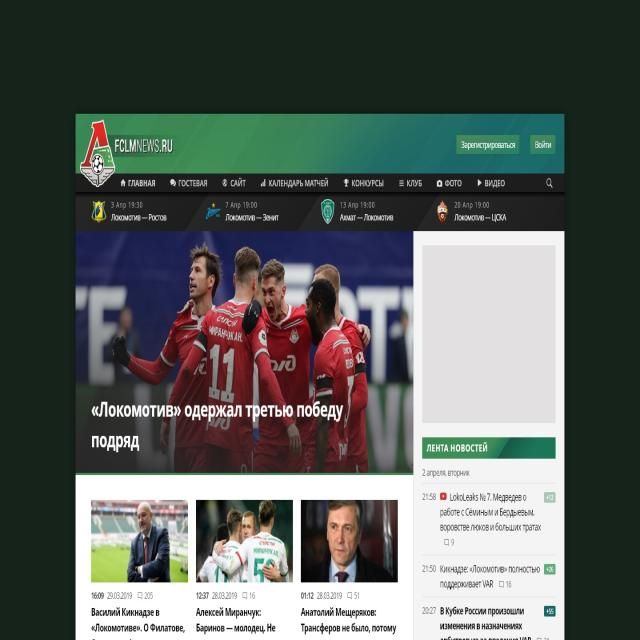button: (258, 174, 332, 193), (457, 135, 519, 155), (166, 174, 211, 194), (340, 174, 388, 192), (119, 173, 158, 192), (472, 175, 510, 193), (219, 172, 250, 194), (432, 174, 466, 194), (394, 174, 427, 192), (530, 135, 556, 154), (542, 172, 556, 192)
heading: (89, 398, 346, 456), (115, 134, 175, 155), (427, 442, 488, 453)
iframe: (422, 245, 556, 423)
image: (77, 232, 412, 473), (75, 114, 564, 172), (196, 499, 293, 584), (91, 499, 188, 583), (301, 499, 397, 583), (78, 118, 115, 189), (90, 196, 108, 227), (320, 198, 336, 228), (434, 197, 450, 226), (204, 201, 221, 224)
label: (422, 467, 471, 480), (196, 591, 256, 600), (300, 591, 360, 600), (91, 592, 154, 600), (421, 491, 437, 502), (422, 605, 437, 615), (422, 564, 436, 574)
text: (438, 488, 542, 548), (298, 602, 401, 640), (440, 604, 541, 640), (89, 605, 186, 640), (437, 561, 541, 592), (194, 602, 276, 640), (111, 212, 167, 224), (224, 211, 280, 223), (454, 212, 508, 224), (340, 214, 396, 224), (110, 199, 144, 210), (340, 200, 376, 210), (454, 200, 491, 209), (225, 200, 258, 210)
